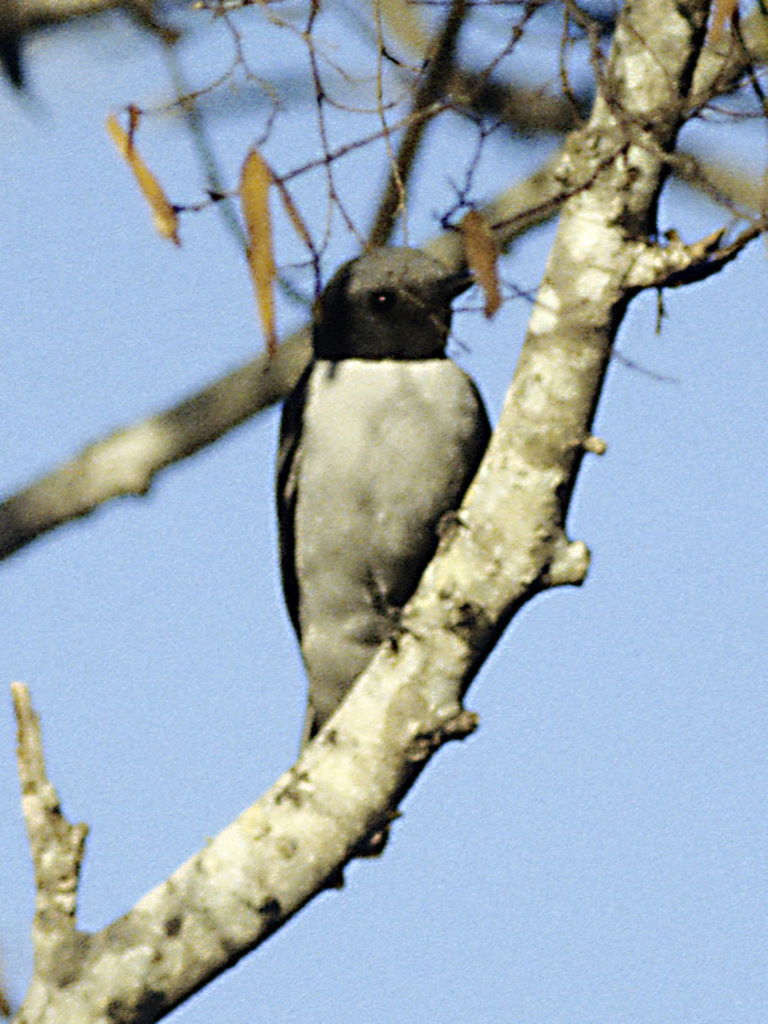Bird: (275, 246, 496, 891)
